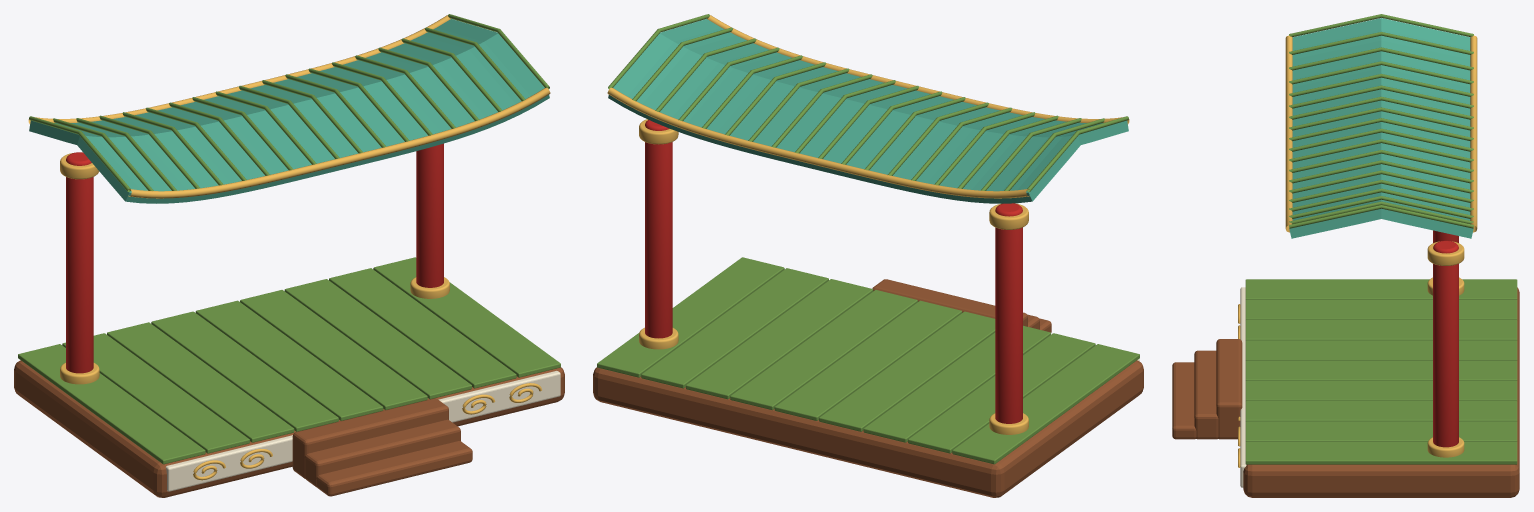
The model's file is stage-stage.glb.
3 renders of one model, left to right at view 1: azimuth 30°, elevation 25°; view 2: azimuth 150°, elevation 25°; view 3: azimuth 270°, elevation 25°, orthographic. The views are drawn at different scales.
Parts seen in each view (by area): view 1: stage-stage; view 2: stage-stage; view 3: stage-stage.
Part boxes in pixels (x1,y1,x2,y2): stage-stage: (14,14,564,497); stage-stage: (593,14,1143,497); stage-stage: (1172,14,1519,497).
Size of the model in its own units: 4.97 by 3.57 by 3.77.
